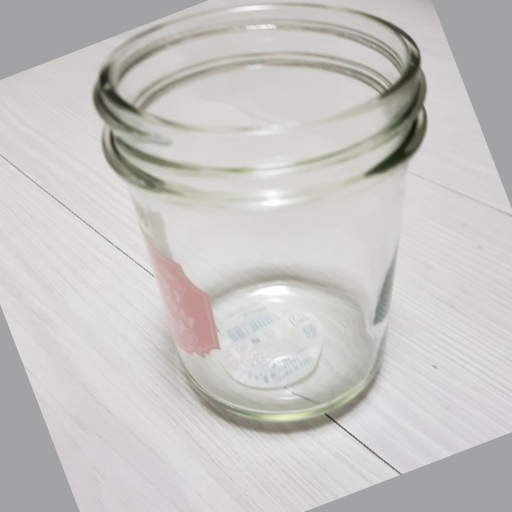Glass_5: (89, 6, 430, 434)
